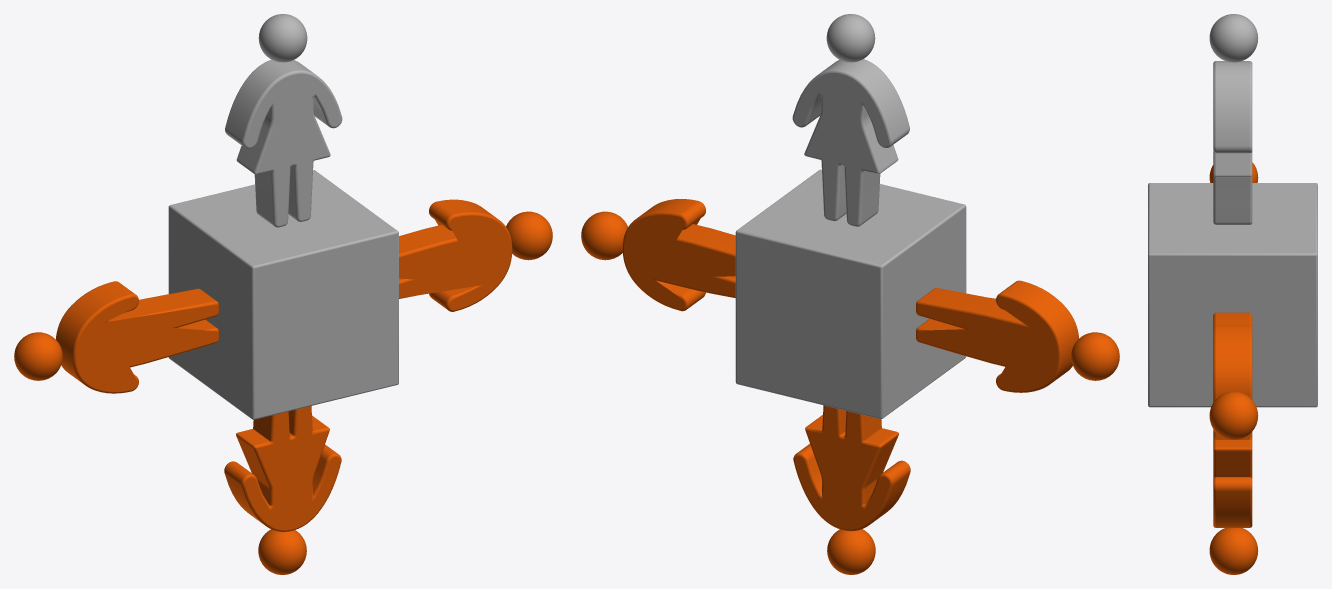
3 renders of one model, left to right at view 1: azimuth 30°, elevation 25°; view 2: azimuth 150°, elevation 25°; view 3: azimuth 270°, elevation 25°, orthographic.
Parts seen in each view (by area): view 1: Cube_5, Cap_2, Cap_2_2, Cap_2_4, Cap_2_3, Extrude_1_2, Extrude_1, Extrude_1_3, Extrude_1_4, Rounding_2_2, Sphere_1, Sphere (+5 smaller); view 2: Cube_5, Cap_1, Cap_1_2, Cap_1_4, Cap_1_3, Extrude_1_2, Extrude_1, Extrude_1_3, Extrude_1_4, Rounding_1_2, Sphere_1, Sphere (+5 smaller); view 3: Cube_5, Extrude_1_2, Extrude_1_3, Extrude_1_4, Sphere, Sphere_1_2, Sphere_2, Rounding_2_2, Rounding_1_2, Rounding_2_3, Rounding_1_3, Rounding_2_4 (+1 smaller).
Part boxes in pixels (box(x1,y1,x2,y2)): Cube_5: box(168, 170, 398, 419); Cap_2: box(76, 297, 217, 391); Cap_2_2: box(245, 73, 340, 225); Cap_2_4: box(399, 215, 510, 310); Cap_2_3: box(245, 406, 340, 530); Extrude_1_2: box(225, 60, 327, 225); Extrude_1: box(56, 281, 216, 383); Extrude_1_3: box(224, 410, 337, 523); Extrude_1_4: box(399, 199, 495, 309); Rounding_2_2: box(242, 70, 342, 227); Sphere_1: box(14, 332, 62, 380); Sphere: box(258, 14, 307, 62); Cube_5: box(735, 169, 966, 419); Cap_1: box(917, 296, 1058, 391); Cap_1_2: box(794, 73, 889, 225); Cap_1_4: box(624, 214, 735, 309); Cap_1_3: box(794, 405, 889, 529); Extrude_1_2: box(807, 59, 909, 224); Extrude_1: box(918, 280, 1078, 382); Extrude_1_3: box(797, 409, 910, 523); Extrude_1_4: box(638, 199, 735, 308); Rounding_1_2: box(792, 69, 892, 226); Sphere_1: box(1071, 332, 1119, 380); Sphere: box(826, 14, 875, 62); Cube_5: box(1148, 183, 1317, 407); Extrude_1_2: box(1216, 61, 1249, 224); Extrude_1_3: box(1216, 432, 1249, 527); Extrude_1_4: box(1216, 312, 1249, 398); Sphere: box(1209, 14, 1258, 62); Sphere_1_2: box(1209, 391, 1258, 439); Sphere_2: box(1209, 528, 1258, 574); Rounding_2_2: box(1213, 61, 1215, 224); Rounding_1_2: box(1250, 61, 1252, 224); Rounding_2_3: box(1213, 430, 1215, 527); Rounding_1_3: box(1250, 432, 1252, 527); Rounding_2_4: box(1213, 313, 1215, 431).
Bounding box in the file's own units: 3618 × 3616 × 1000.
